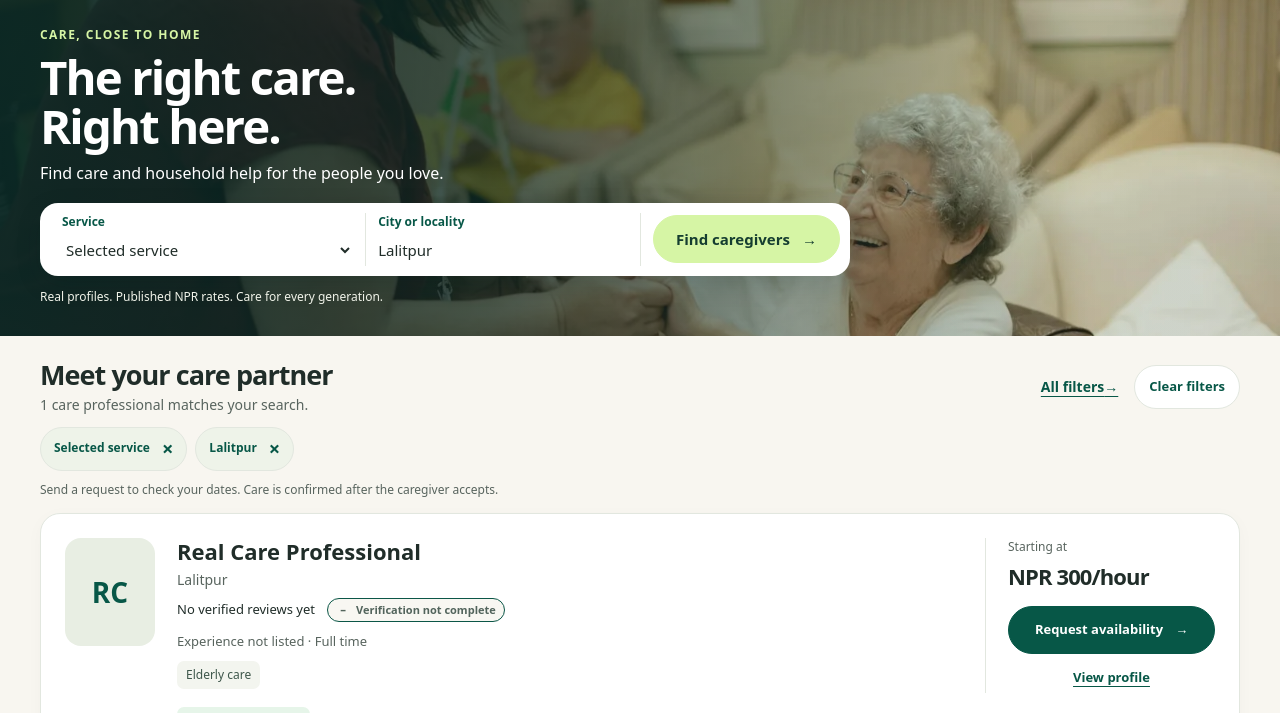
Test: a restored search keeps service and city in results and advanced filters
Expected: the heading "Real Care Professional" is shown, [177, 538, 421, 564]
Expected: the dropdown labelled "Service" shows "Selected service", [62, 234, 353, 266]
Click the button with aria-label "Remove filter: Lalitpur" at (245,448), box [195, 426, 294, 470]
(page scrolled)
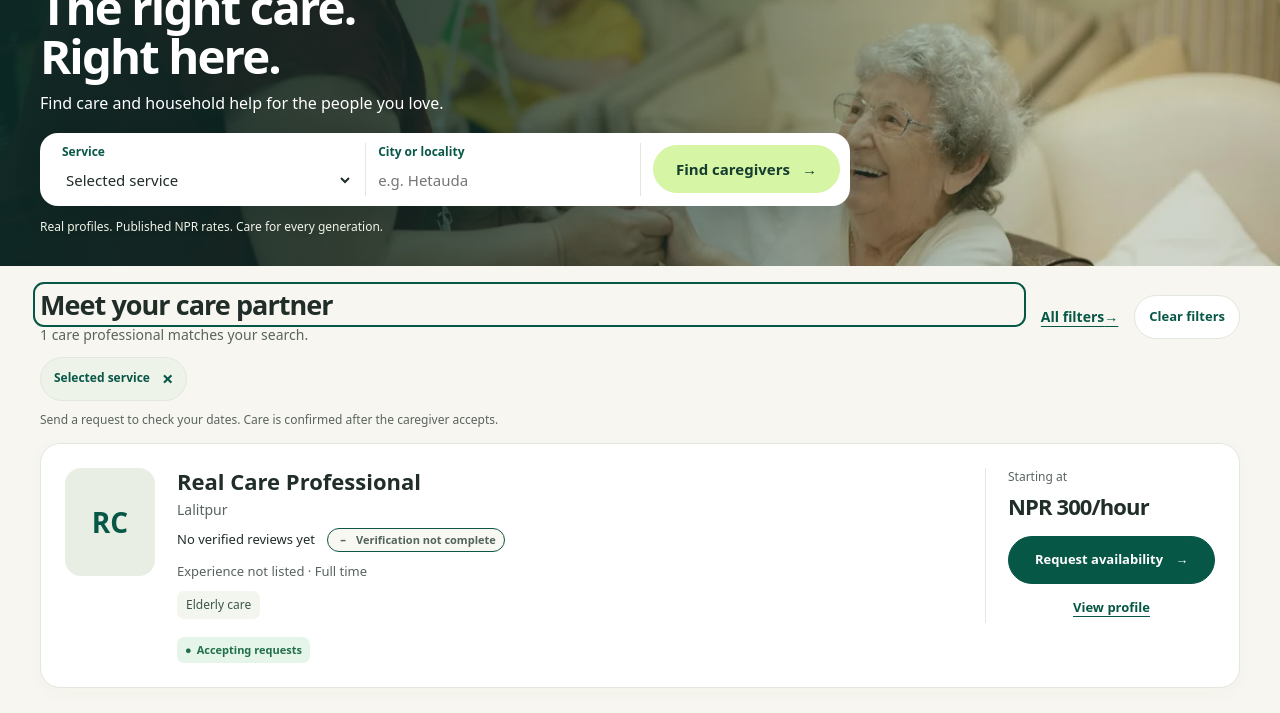
Expected: the dropdown labelled "Service" shows "Selected service", [62, 164, 353, 196]
Now the field labelled "City or locality" is empty, box [378, 164, 628, 196]
